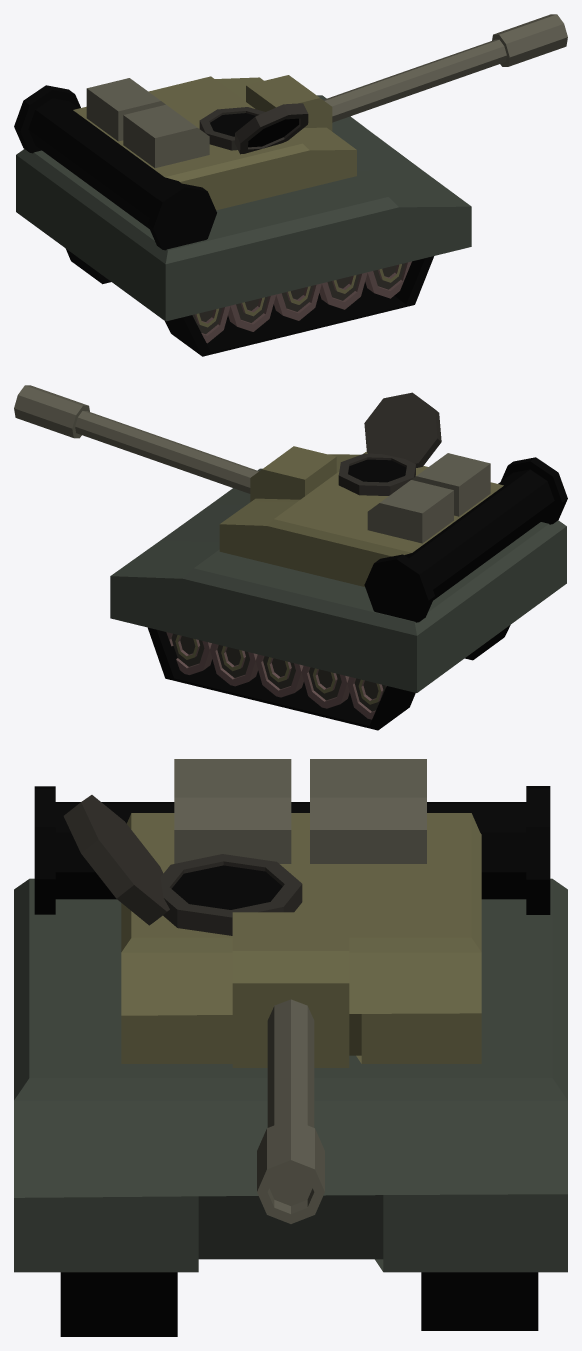
Rendered from SM_Prop_Tank.fbx.
3 renders of one model, top to bottom at view 1: azimuth 30°, elevation 25°; view 2: azimuth 150°, elevation 25°; view 3: azimuth 270°, elevation 25°, orthographic. The views are drawn at different scales.
Parts seen in each view (by area): view 1: Cube.001; view 2: Cube.001; view 3: Cube.001.
Part boxes in pixels (<box>): Cube.001: <box>14,14,567,356</box>; Cube.001: <box>14,385,567,730</box>; Cube.001: <box>14,759,567,1336</box>.
Bounding box in the file's own units: 947 × 794 × 1742.
